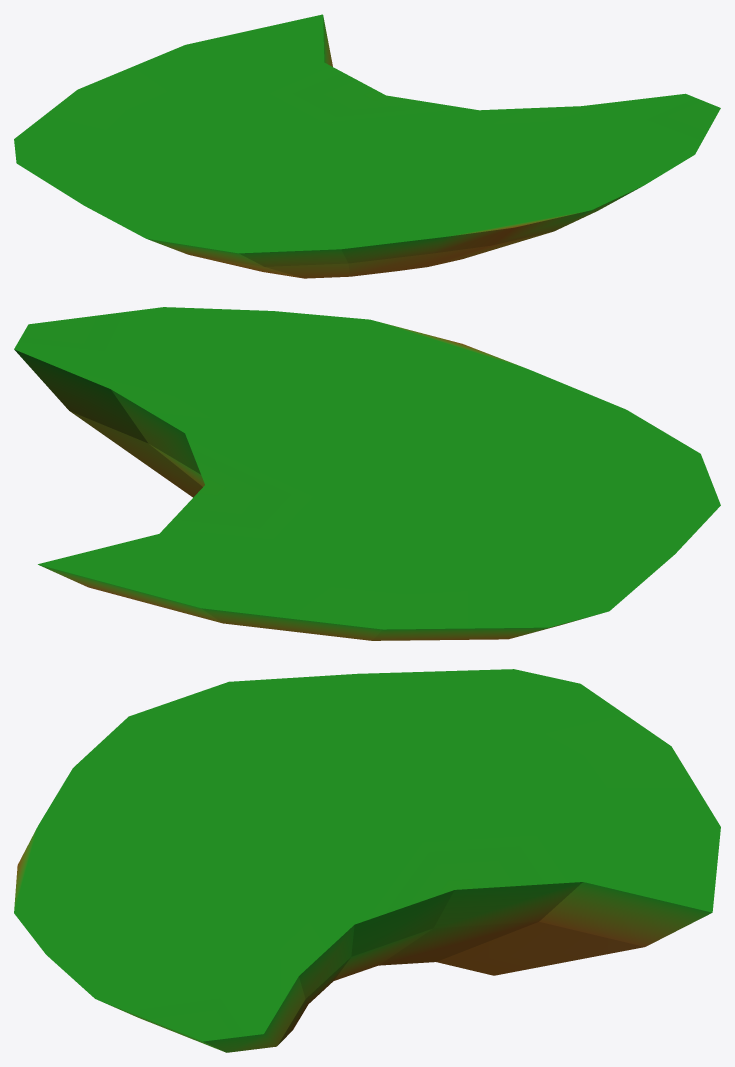
File: isla_flotante_testcolor.obj
3 renders of one model, top to bottom at view 1: azimuth 30°, elevation 25°; view 2: azimuth 150°, elevation 25°; view 3: azimuth 270°, elevation 25°, orthographic. The views are drawn at different scales.
Visible parts, largest first — view 1: isla_flotante; view 2: isla_flotante; view 3: isla_flotante.
Part boxes in pixels (box(x1,y1,x2,y2)): isla_flotante: box(14, 14, 720, 278); isla_flotante: box(14, 307, 720, 640); isla_flotante: box(14, 669, 720, 1052).
Bounding box in the file's own units: 17.98 × 2.35 × 14.42.
